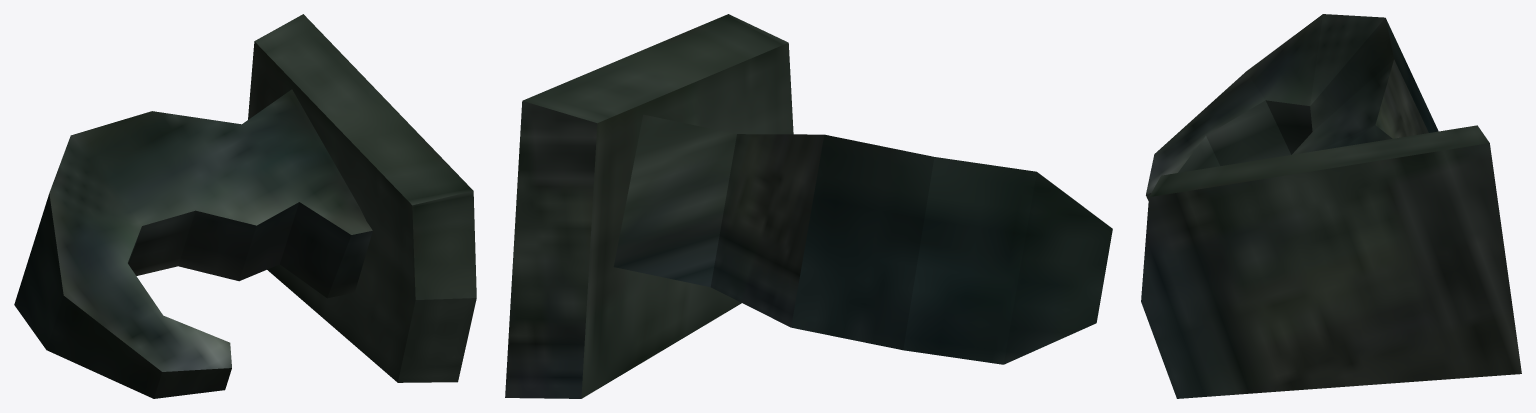
File: vehicle_uni_carrier_blow_piece10.glb
3 renders of one model, left to right at view 1: azimuth 30°, elevation 25°; view 2: azimuth 150°, elevation 25°; view 3: azimuth 270°, elevation 25°, orthographic. The views are drawn at different scales.
Size of the model in its own units: 8.4 by 5.61 by 7.56.
1 material, 1 textured.
